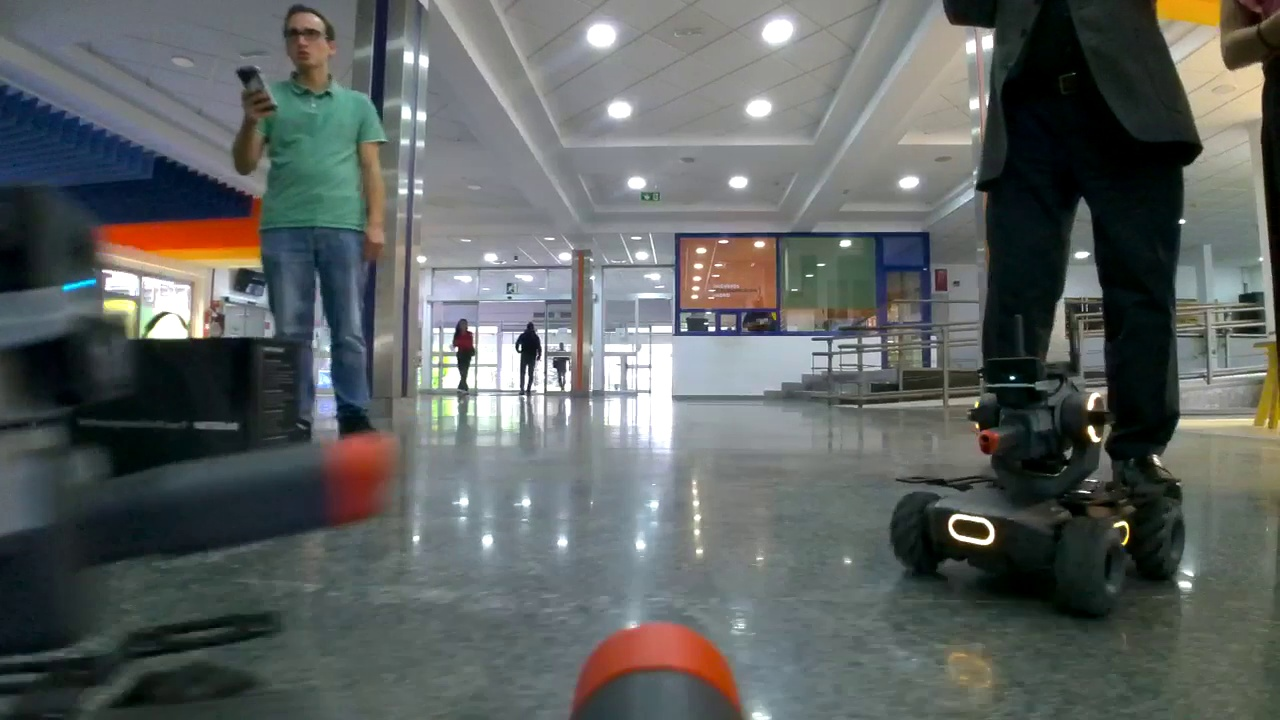robot: (887, 351, 1187, 623)
